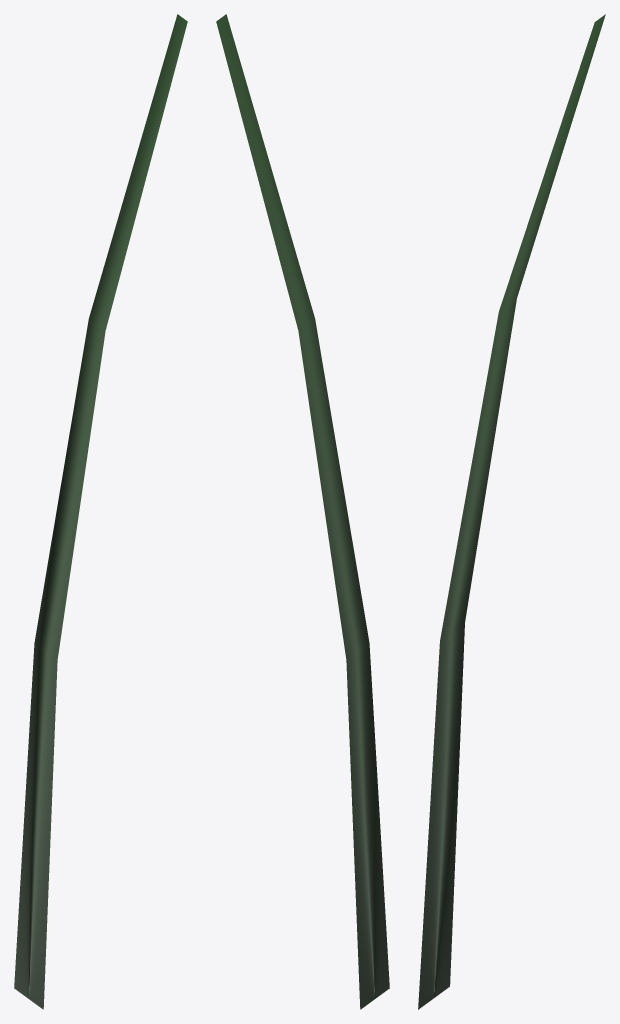
File: Blade_Sedge_Thin.glb
3 renders of one model, left to right at view 1: azimuth 30°, elevation 25°; view 2: azimuth 150°, elevation 25°; view 3: azimuth 330°, elevation 25°, orthographic. The views are drawn at different scales.
Parts seen in each view (by area): view 1: Blade_Sedge_Thin; view 2: Blade_Sedge_Thin; view 3: Blade_Sedge_Thin.
Part boxes in pixels (x1,y1,x2,y2): Blade_Sedge_Thin: [14, 14, 187, 1009]; Blade_Sedge_Thin: [216, 14, 389, 1009]; Blade_Sedge_Thin: [418, 14, 605, 1009].
Size of the model in its own units: 0.03 by 0.176 by 0.01.
